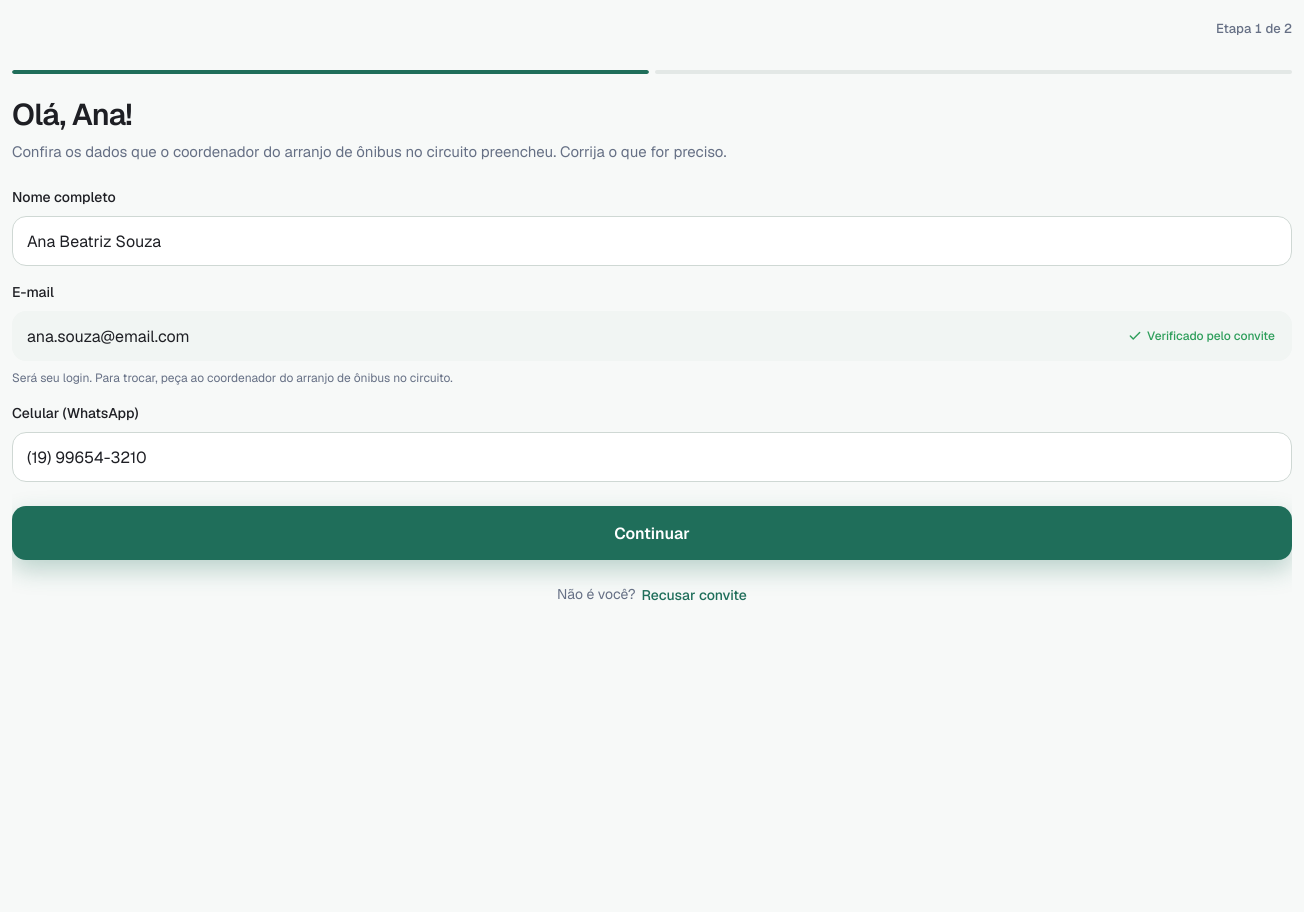
AcceptInvitationFlow — etapa de senha › volta para os dados sem perder o que foi digitado
Step 1. Replace the text in the field labelled "Nome completo" with "Ana B. Souza" → coordinates (655, 241), box [27,217,1283,265]
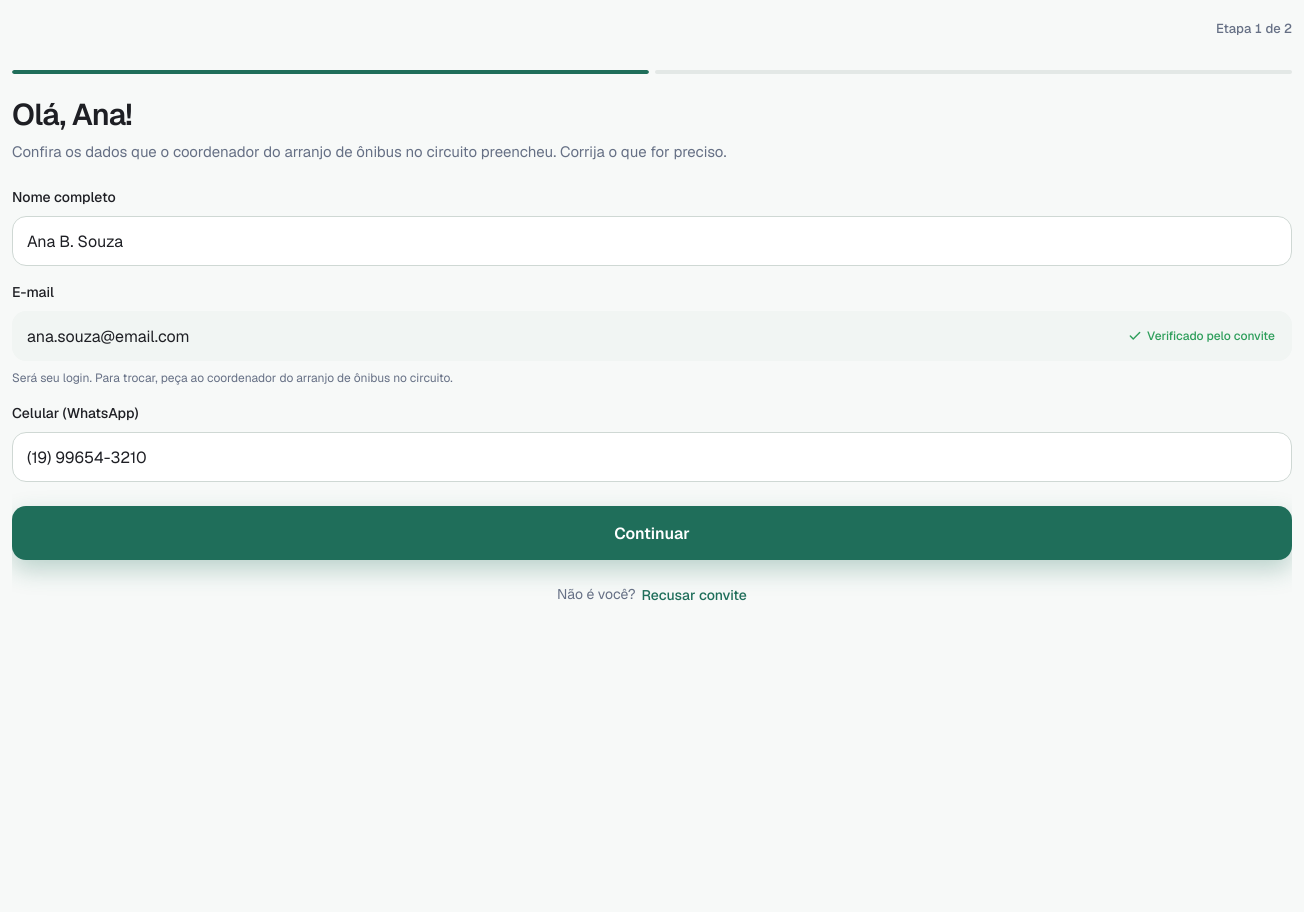
Step 2. Click the button "Continuar" → coordinates (652, 533), box [12,506,1292,560]
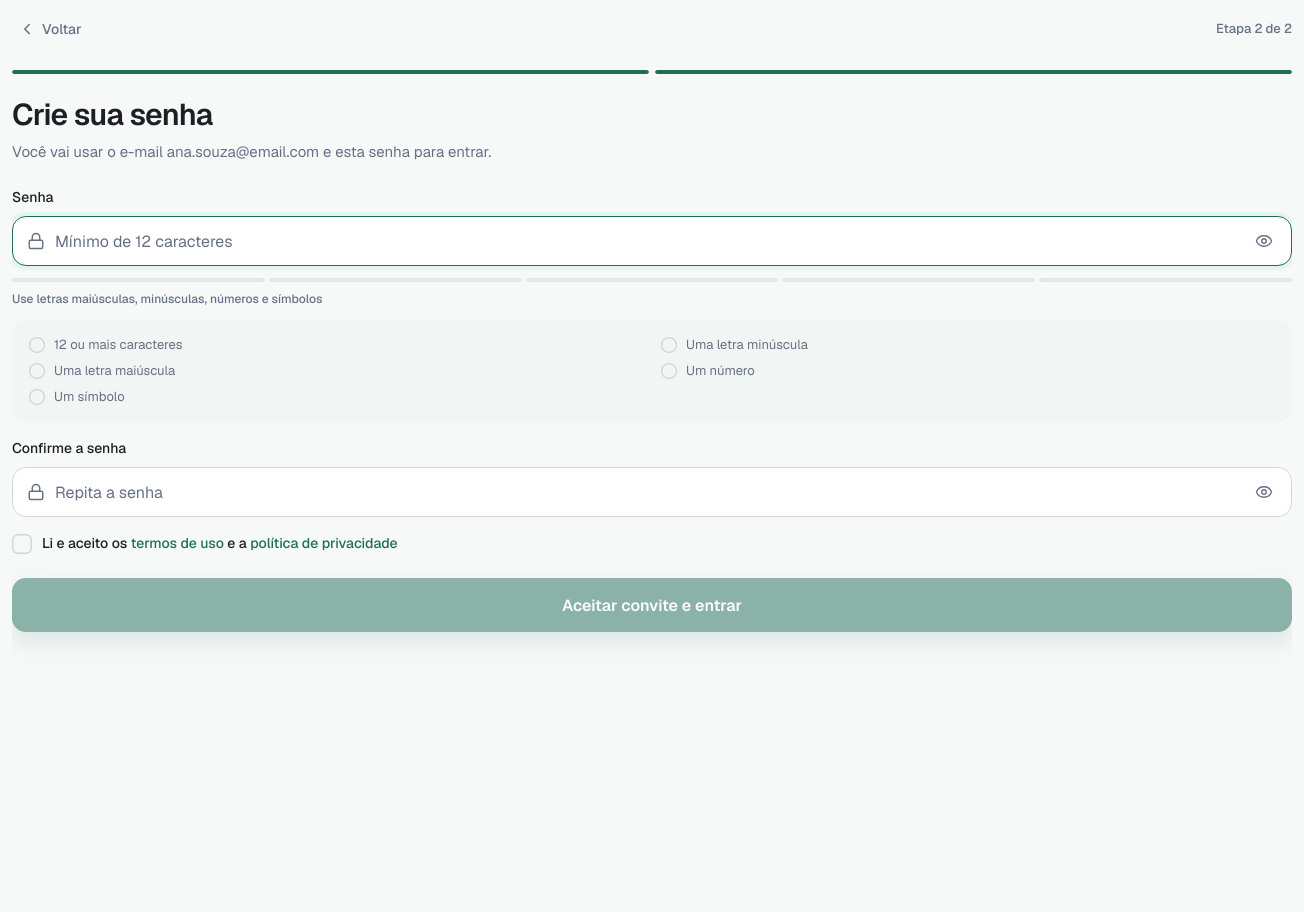
Check: the heading "Crie sua senha" is shown, box [12,95,212,134]
Step 3. Click the button "Voltar" → coordinates (52, 29), box [12,12,92,46]
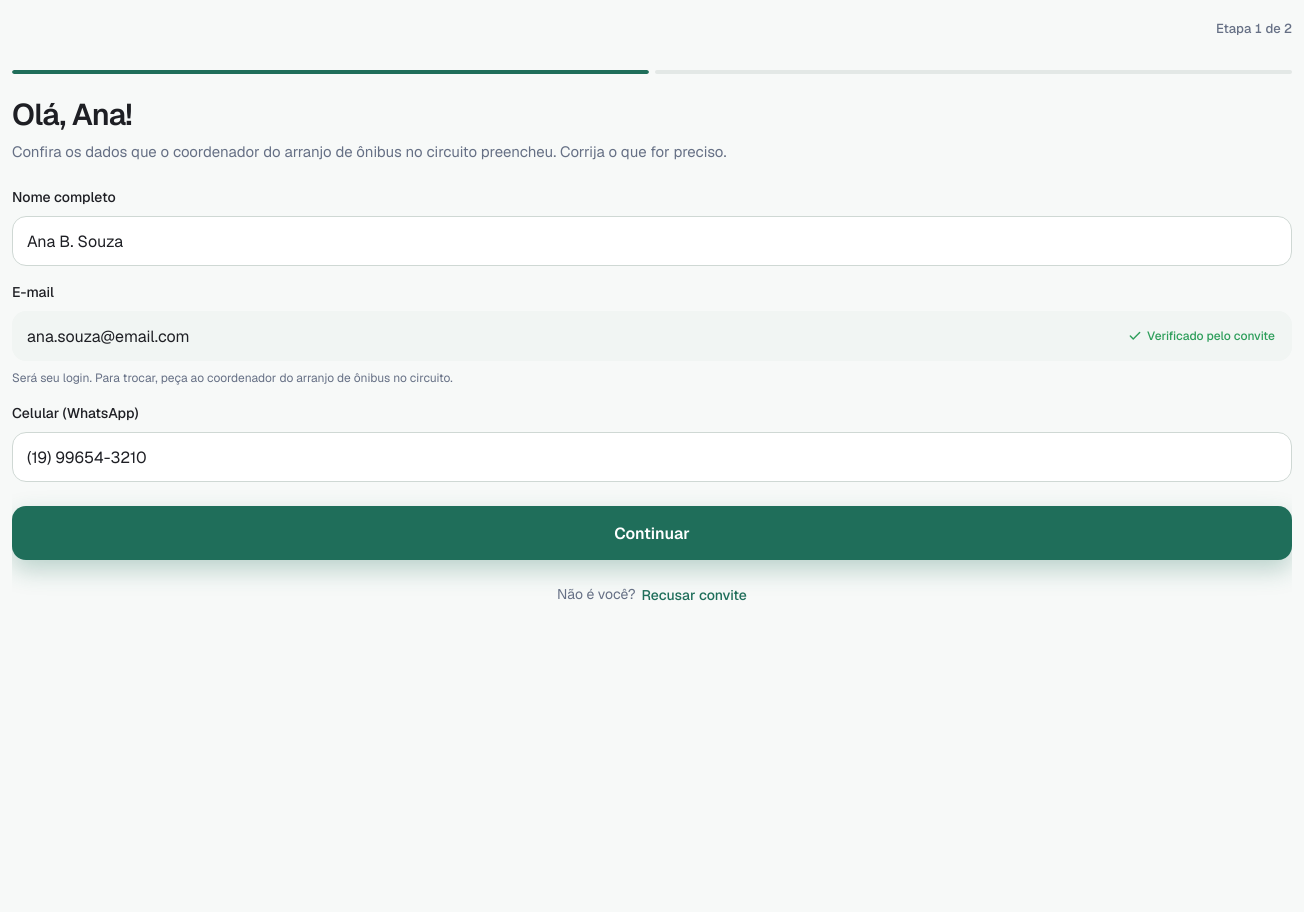
Check: the field labelled "Nome completo" holds "Ana B. Souza", box [27,217,1283,265]
